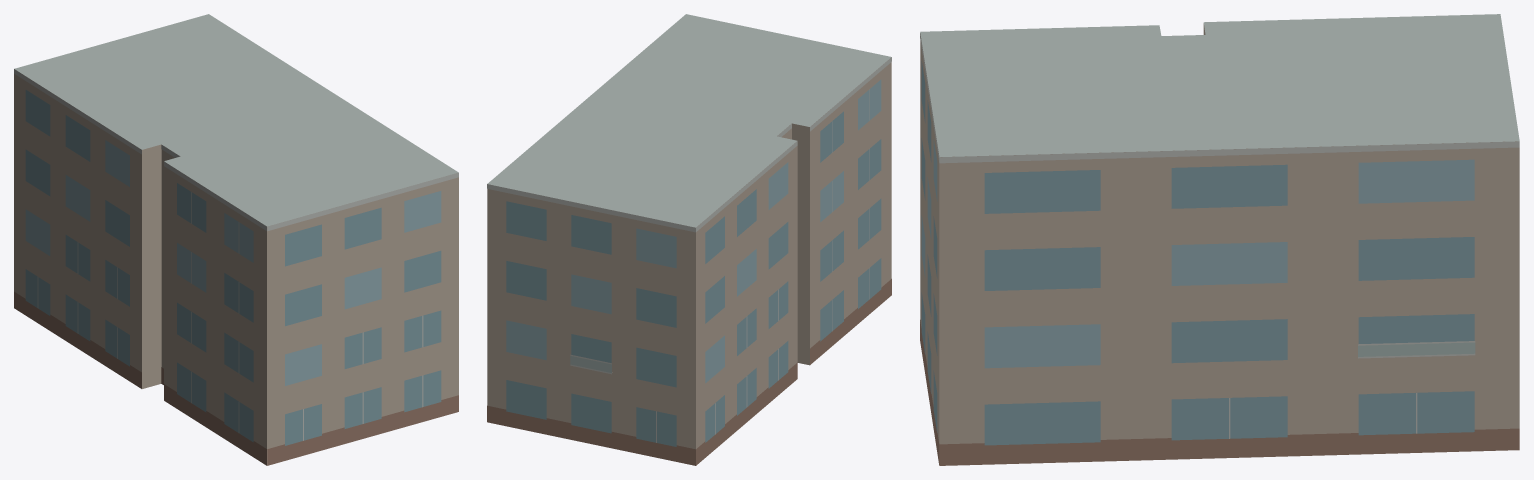
File: residential-4e5292a3-f306-4c82-b25c-d76c090e0823.glb
3 renders of one model, left to right at view 1: azimuth 30°, elevation 25°; view 2: azimuth 150°, elevation 25°; view 3: azimuth 270°, elevation 25°, orthographic. The views are drawn at different scales.
Visible parts, largest first — view 1: residential-4e5292a3-f306-4c82-b25c-d76c090e0823.tmp; view 2: residential-4e5292a3-f306-4c82-b25c-d76c090e0823.tmp; view 3: residential-4e5292a3-f306-4c82-b25c-d76c090e0823.tmp.
Boxes of the visible parts, box(x1,y1,x2,y2) form: residential-4e5292a3-f306-4c82-b25c-d76c090e0823.tmp: box(14, 14, 458, 465); residential-4e5292a3-f306-4c82-b25c-d76c090e0823.tmp: box(487, 14, 891, 465); residential-4e5292a3-f306-4c82-b25c-d76c090e0823.tmp: box(920, 14, 1519, 465).
Size of the model in its own units: 12.14 by 12.2 by 21.49.
